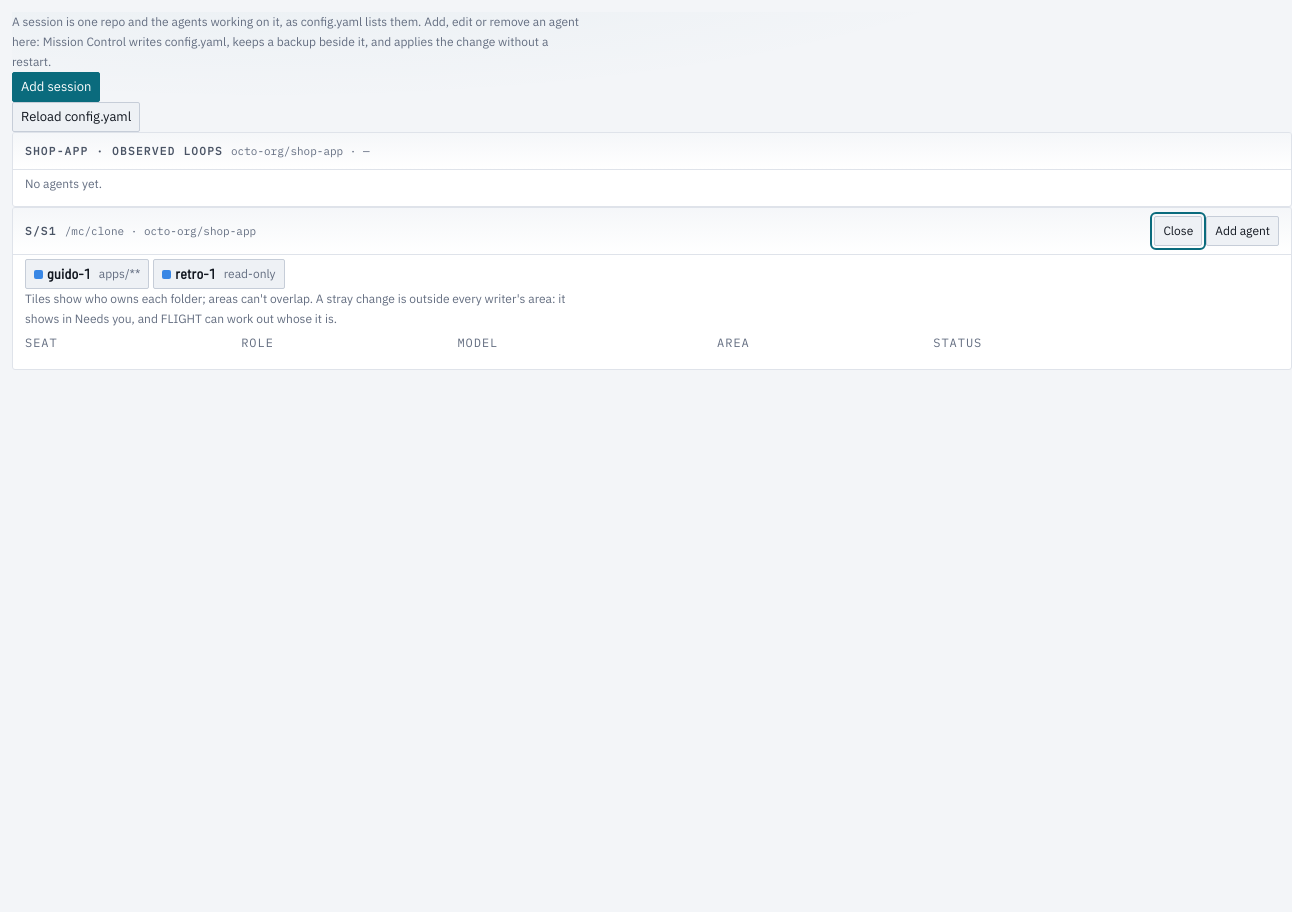
reports retained-unproven and resets the closed selection
Click the button "Close" at point(1178, 231), box [1154, 216, 1202, 246]
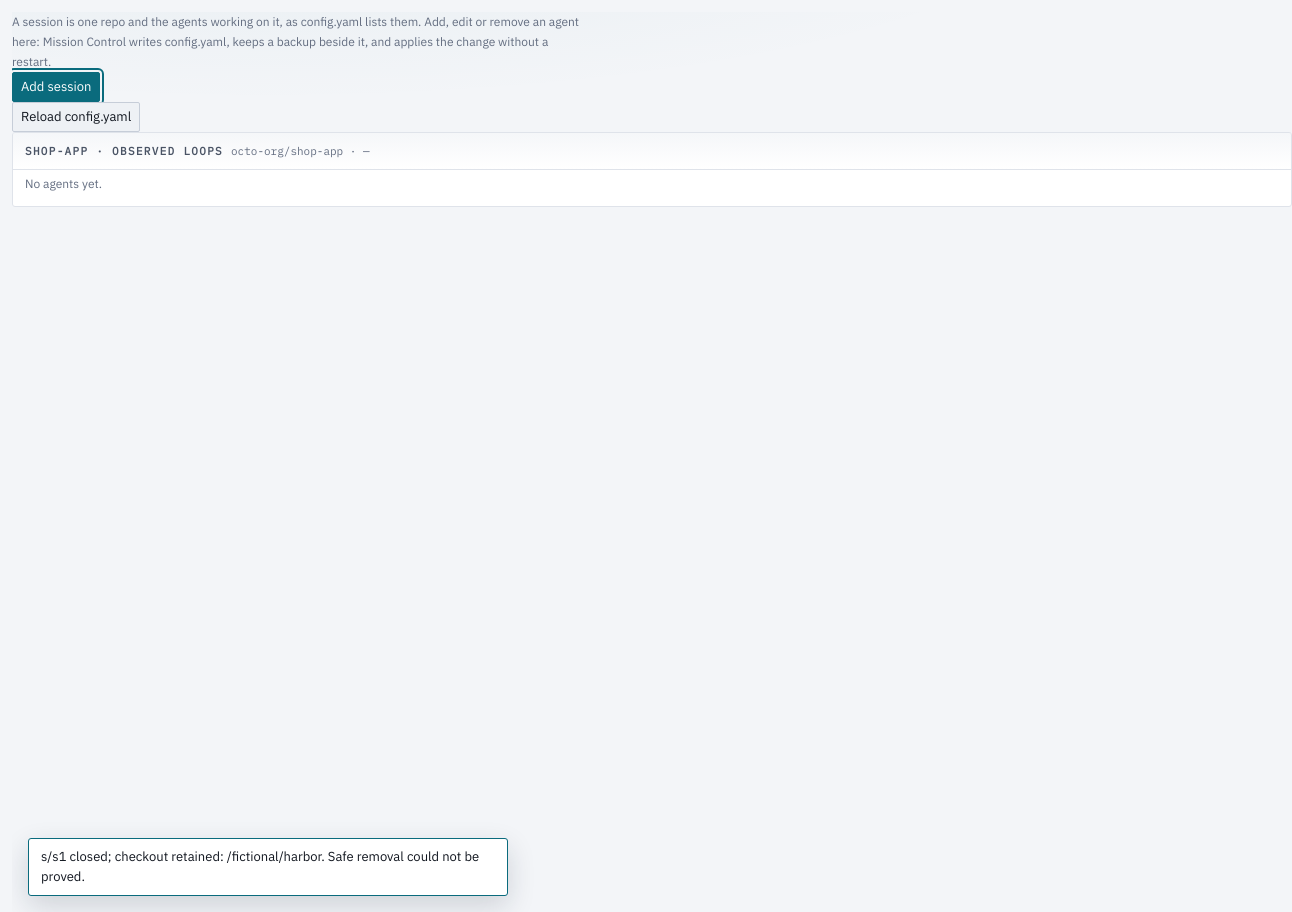
Check: the text "s/s1 closed; checkout retained: /fictional/harbor. Safe removal could not be proved." is shown, box [41, 848, 479, 885]
